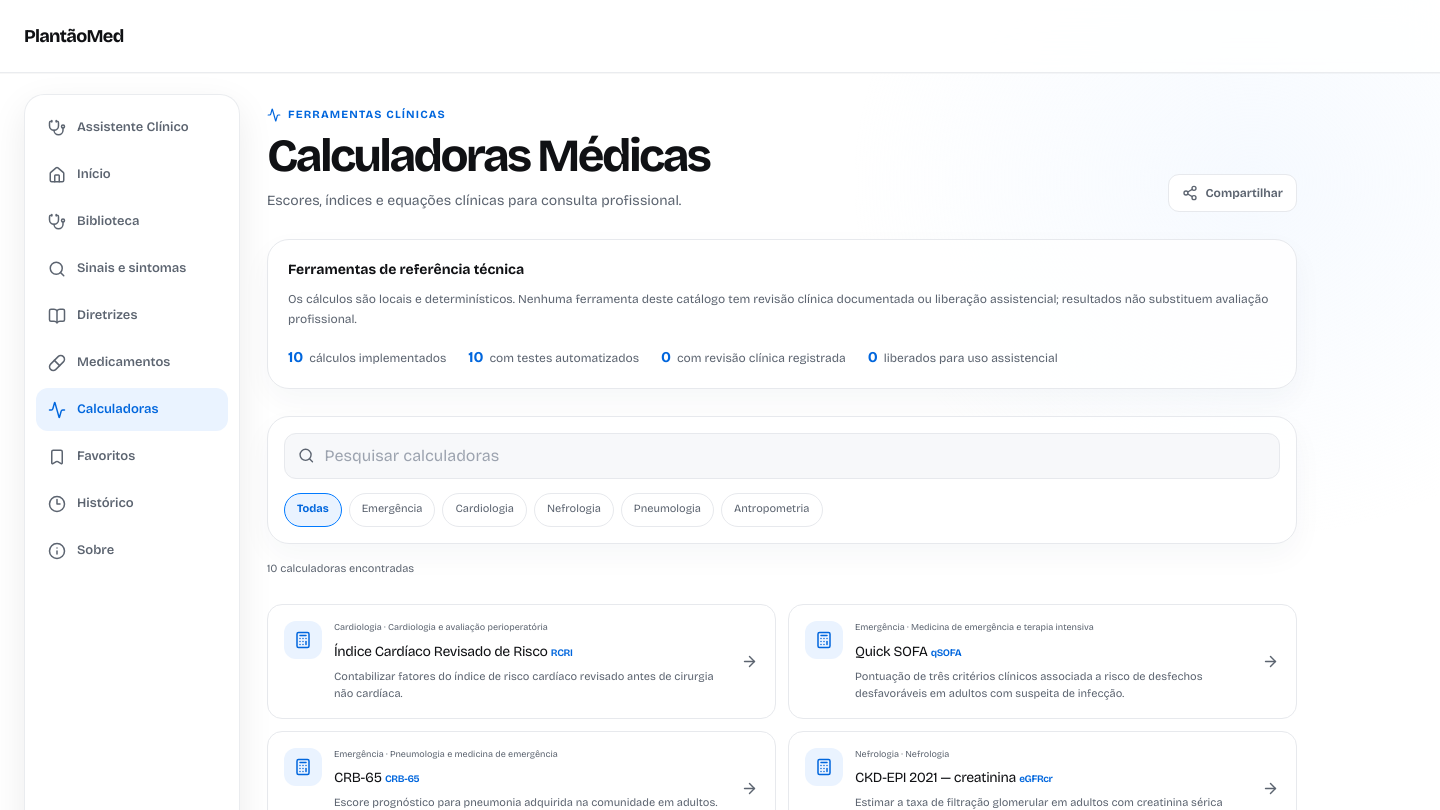
Test: PlantãoMed independent routes › uses contextual route motion when opening and returning from a calculator detail
The width and height of the screenshot is (1440, 810).
Later steps or results of the test are not shown.
Expected: the heading "Calculadoras Médicas" is shown, [267,132,709,181]
Click the link "Quick SOFA". click: click(824, 640)
box: [788,604,1297,719]
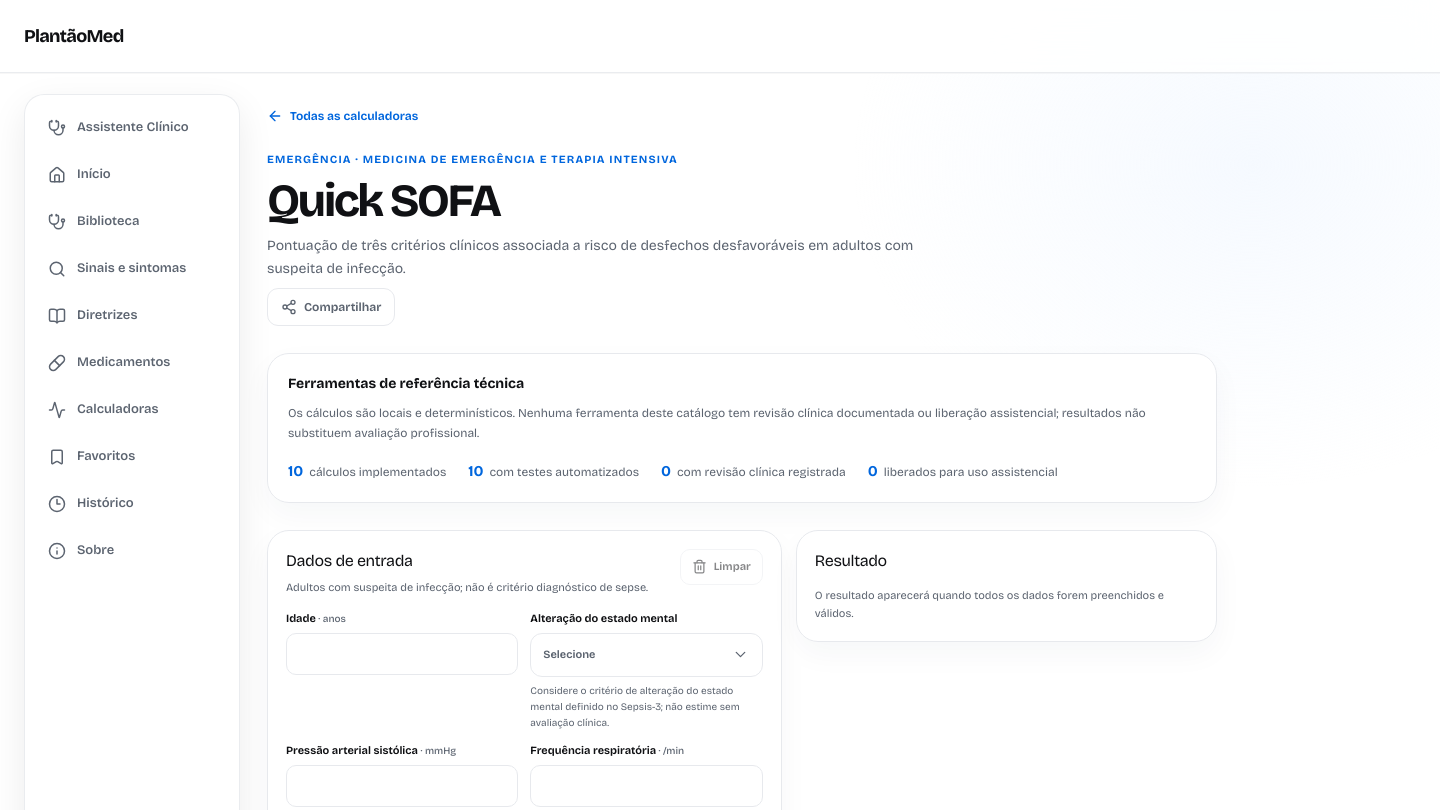
Now the heading "Quick SOFA" is shown, box [267,174,499,228]
